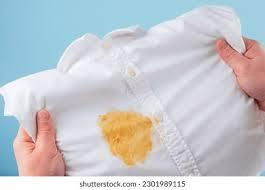lipstick: (99, 111, 154, 165)
